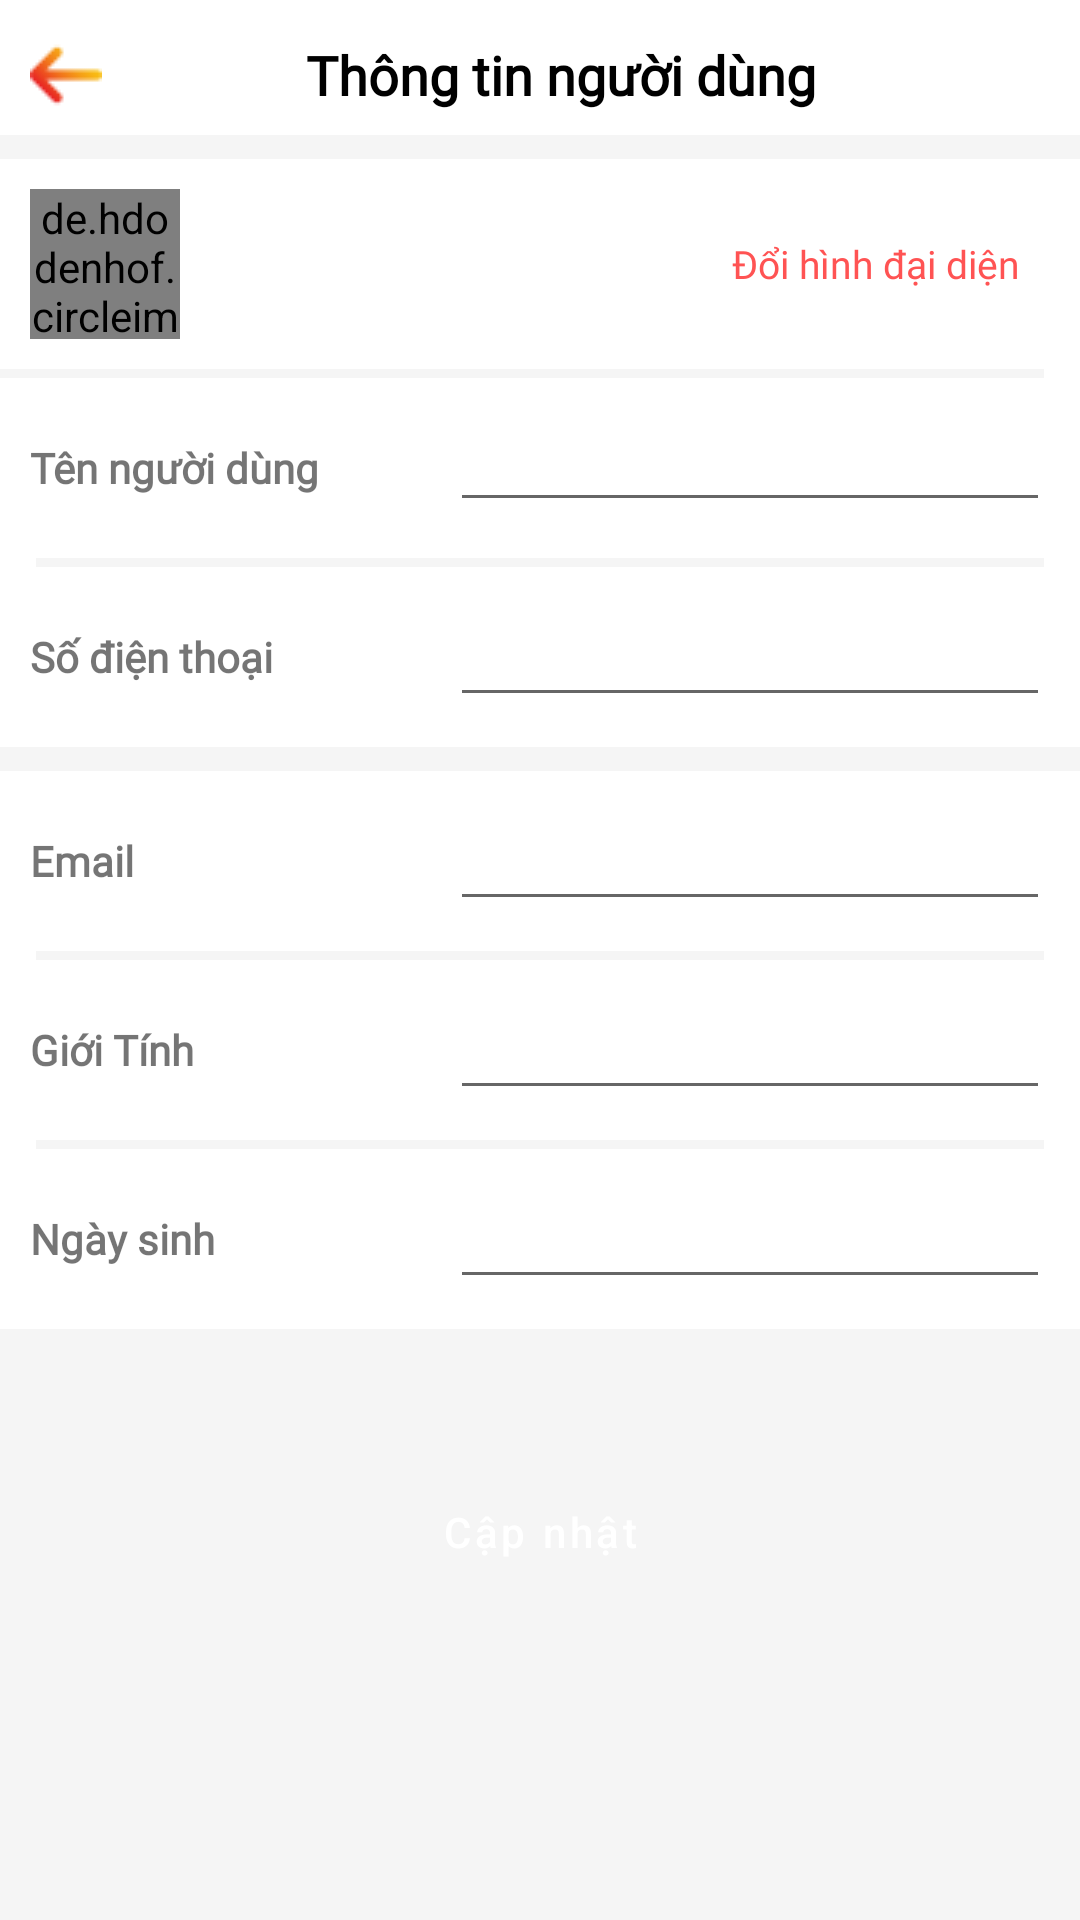

Icon click points for this 1080px×1920px phone screenshot, format point (x, y):
back: point (66, 75)
